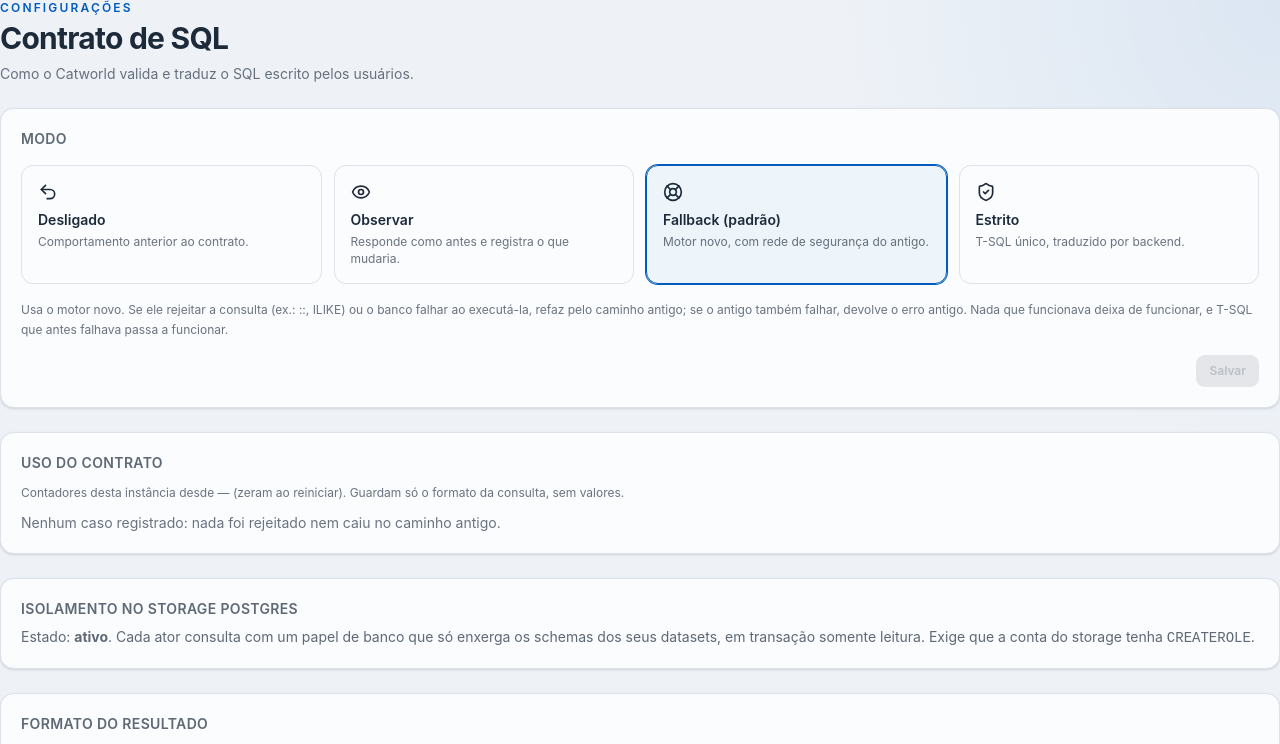
it: tela Contrato de SQL › mostra o erro da API quando falha ao salvar
Click the text "Desligado" at (72, 220), box [38,210,106,230]
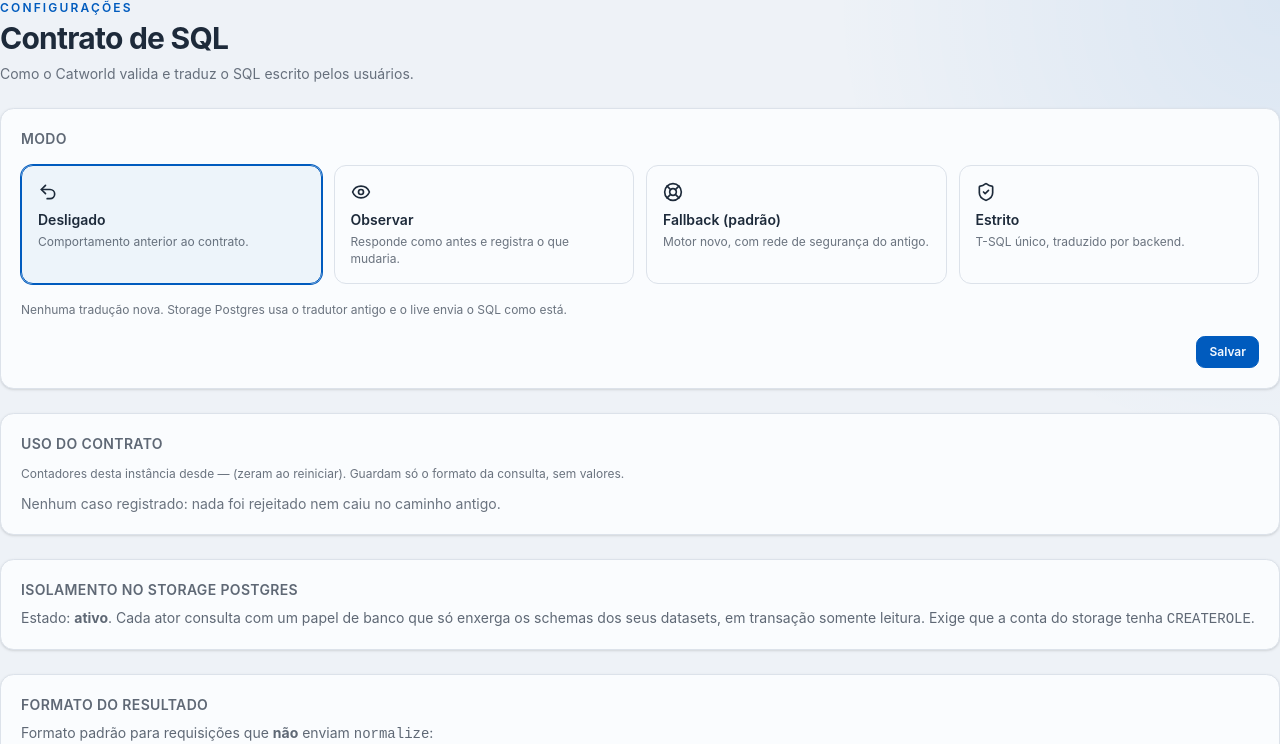
Click the button "Salvar" at (1228, 352), box [1196,336,1259,368]
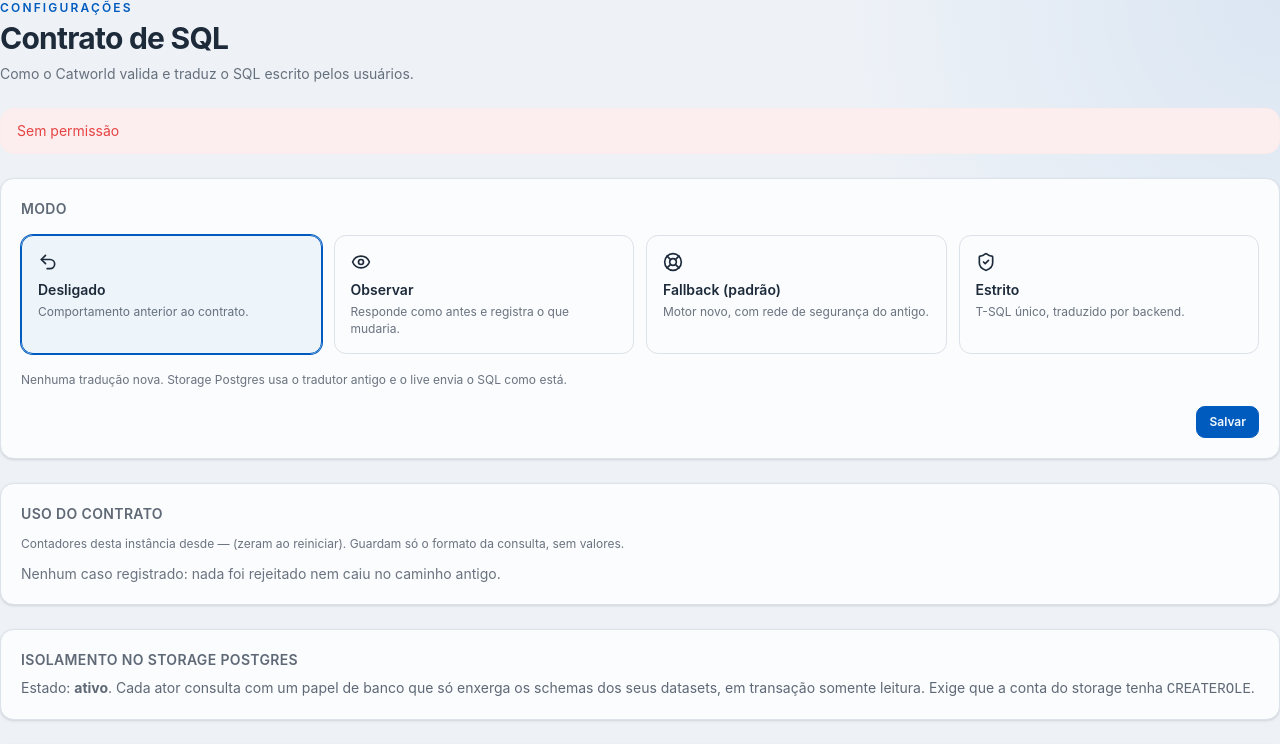
Expected: the text "Sem permissão" is shown, [0,108,1279,154]
